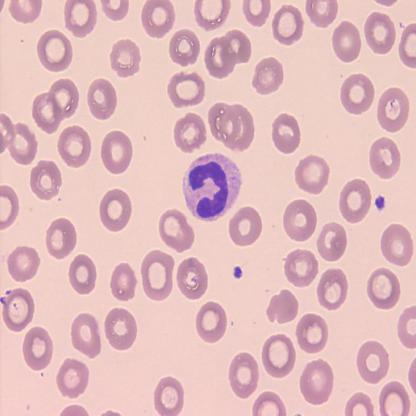Band Neutrophil: (181, 148, 243, 224)
